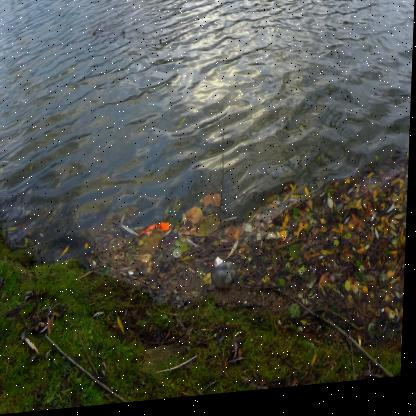Plastic: (213, 266, 238, 293), (139, 225, 171, 240)
